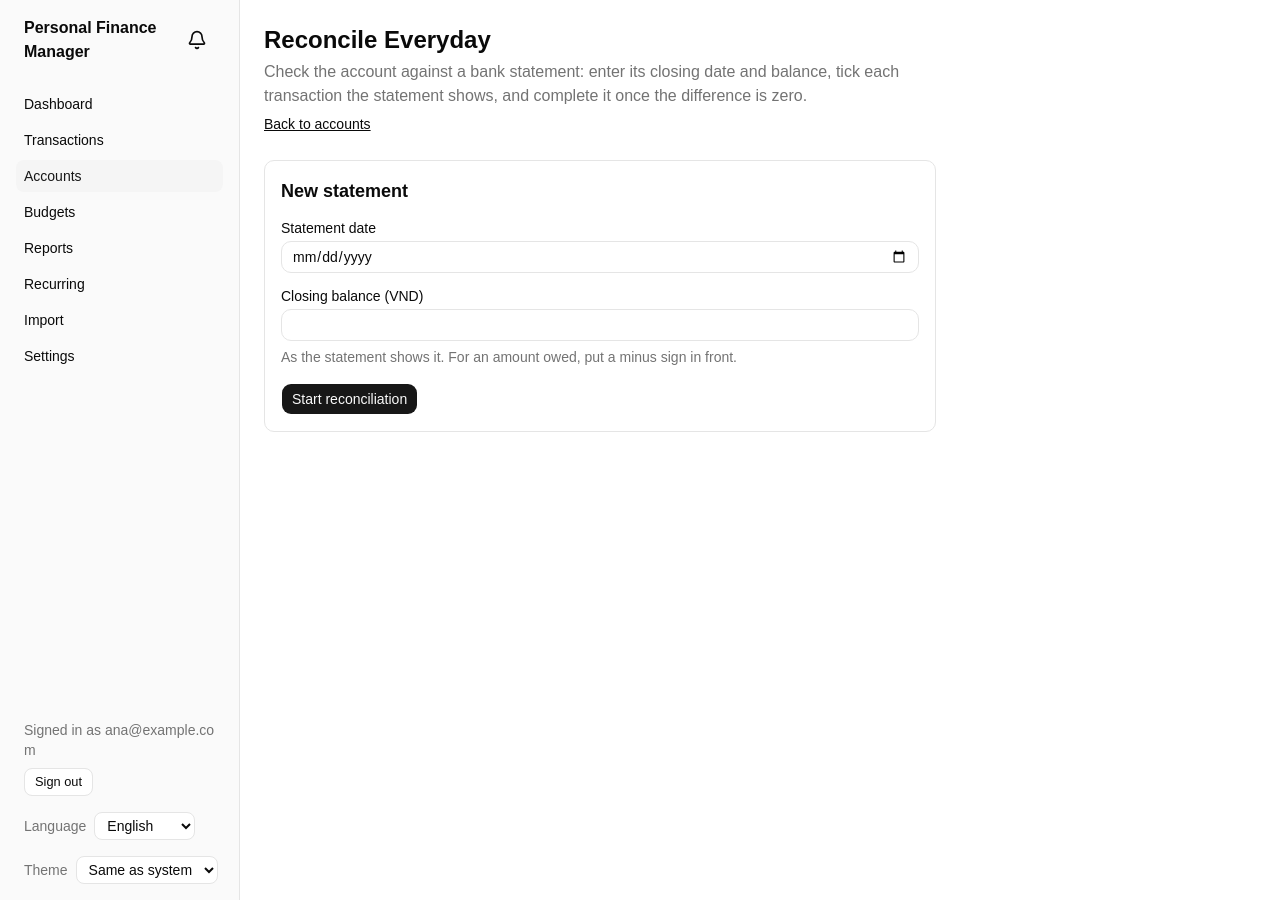
it: reconciling an account › reopens a completed reconciliation, which unlocks its transactions and keeps them ticked
Type "2026-10-31" into the date field labelled "Statement date" at (600, 257), box x1=281 y1=241 x2=919 y2=273
Type "5,500,000" into the field labelled "Closing balance (VND)" at (600, 325), box x1=281 y1=309 x2=919 y2=341
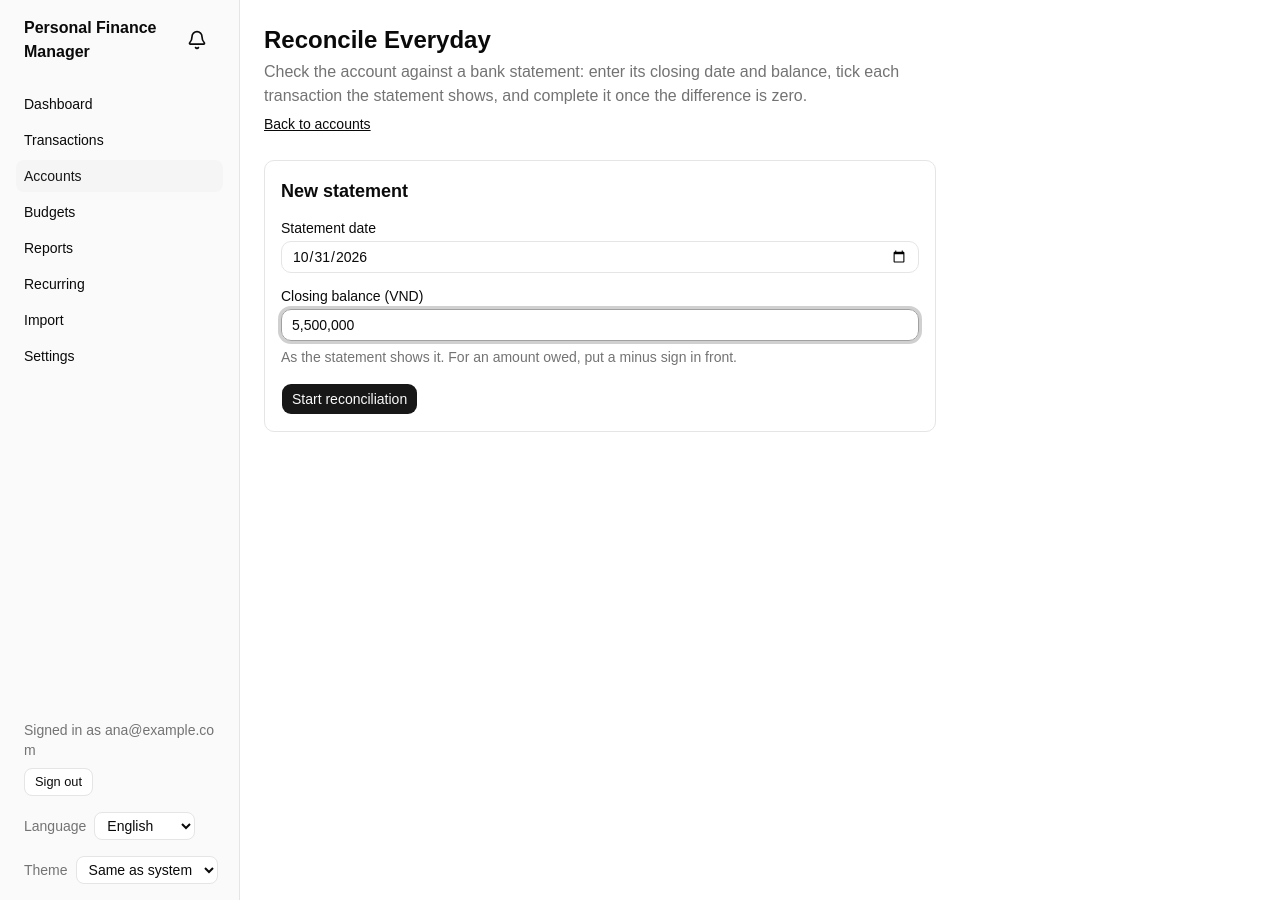
Click the button "Start reconciliation" at (350, 399), box x1=281 y1=383 x2=418 y2=415
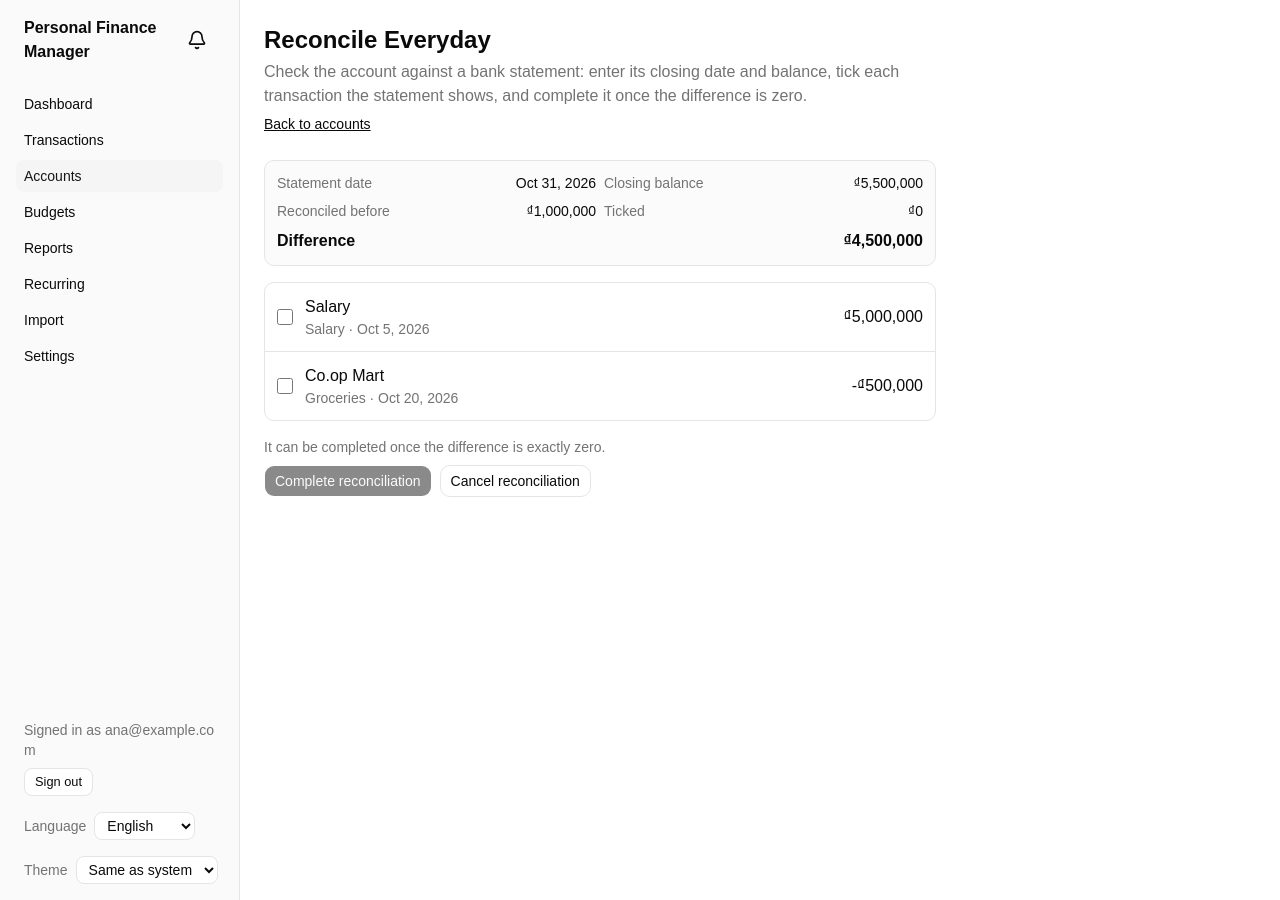
Click the checkbox named "Tick Salary" at (285, 317), box x1=277 y1=309 x2=293 y2=325
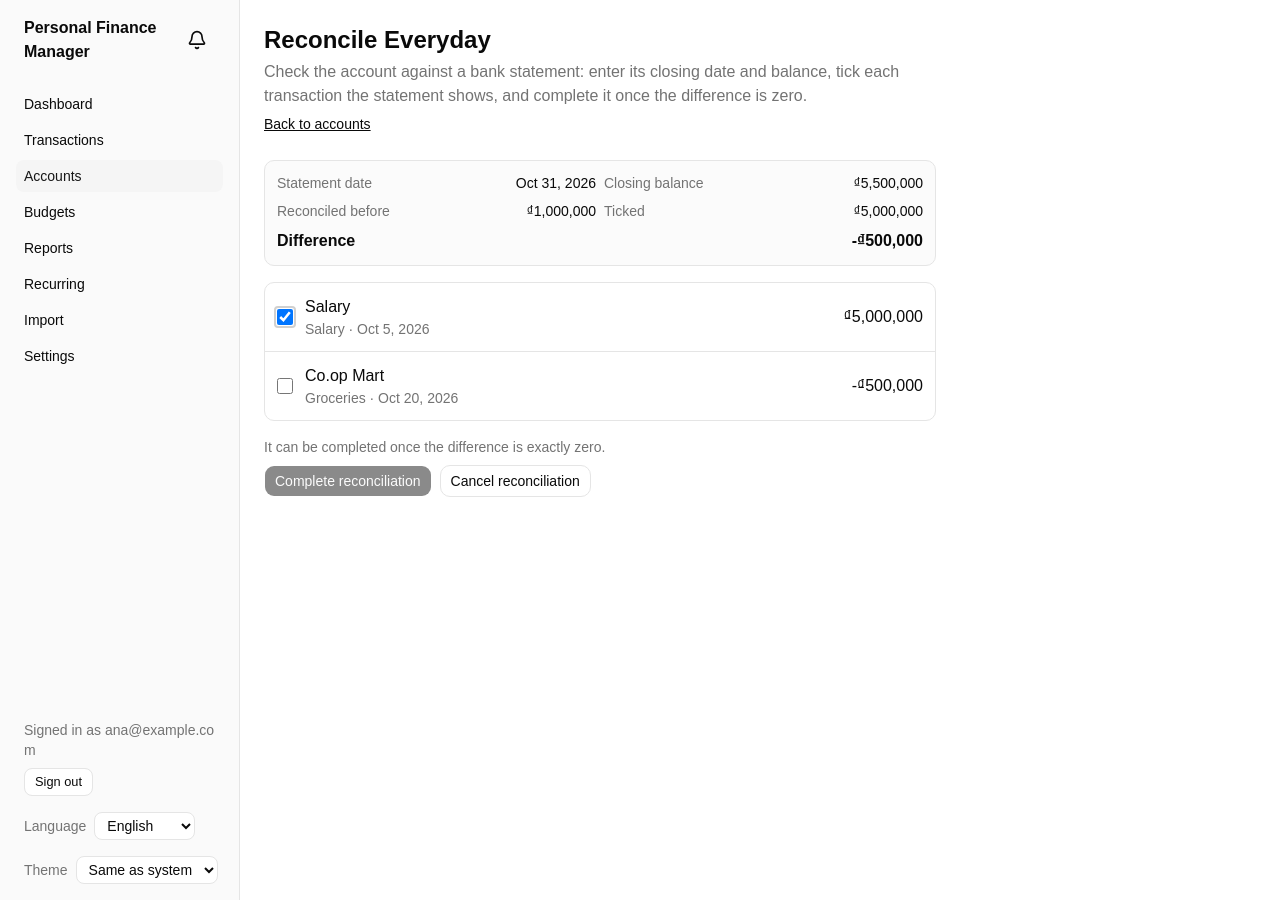
Click the checkbox named "Tick Co.op Mart" at (285, 386), box x1=277 y1=378 x2=293 y2=394
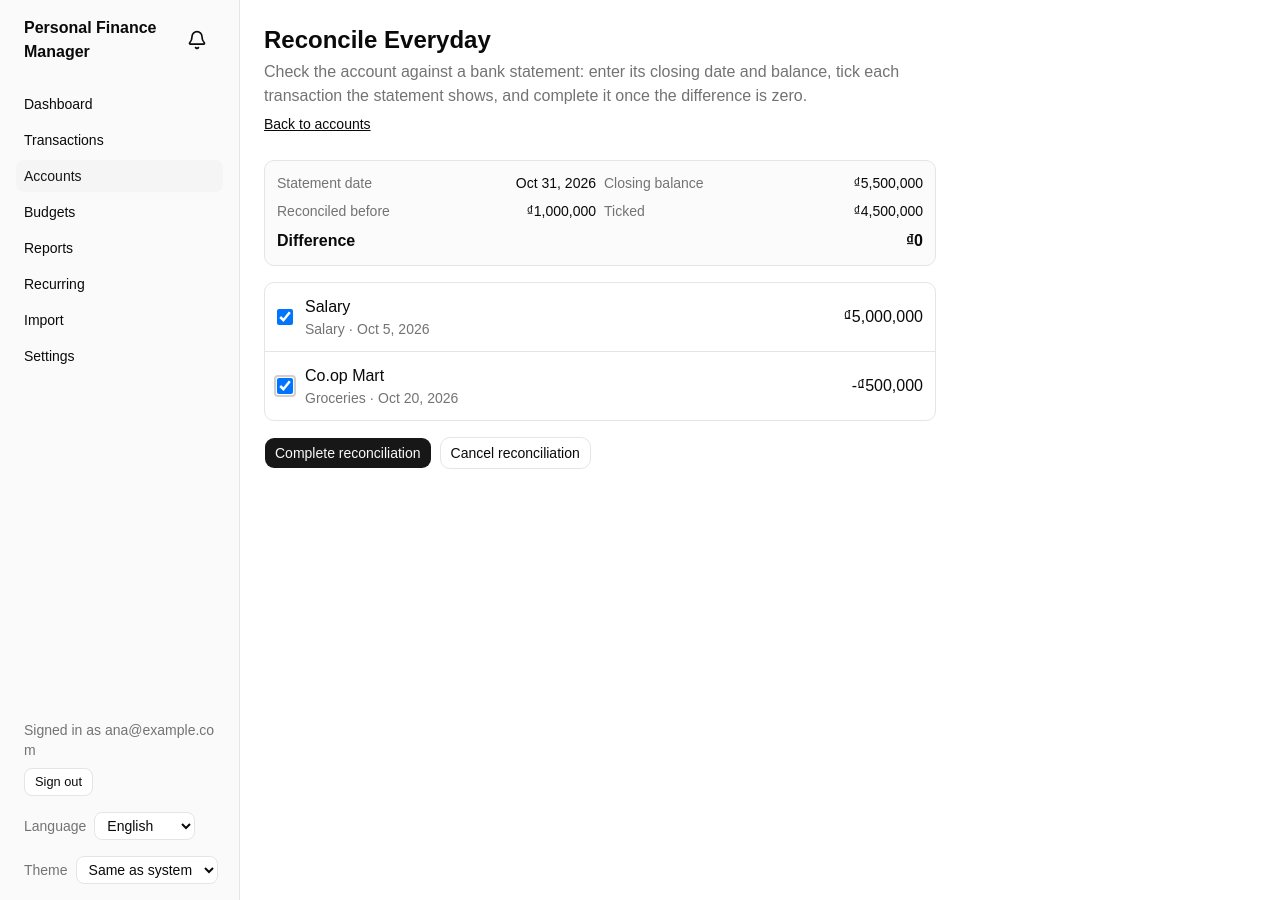
Result: the button "Complete reconciliation" is enabled
Click the button "Complete reconciliation" at (348, 453), box x1=264 y1=437 x2=432 y2=469
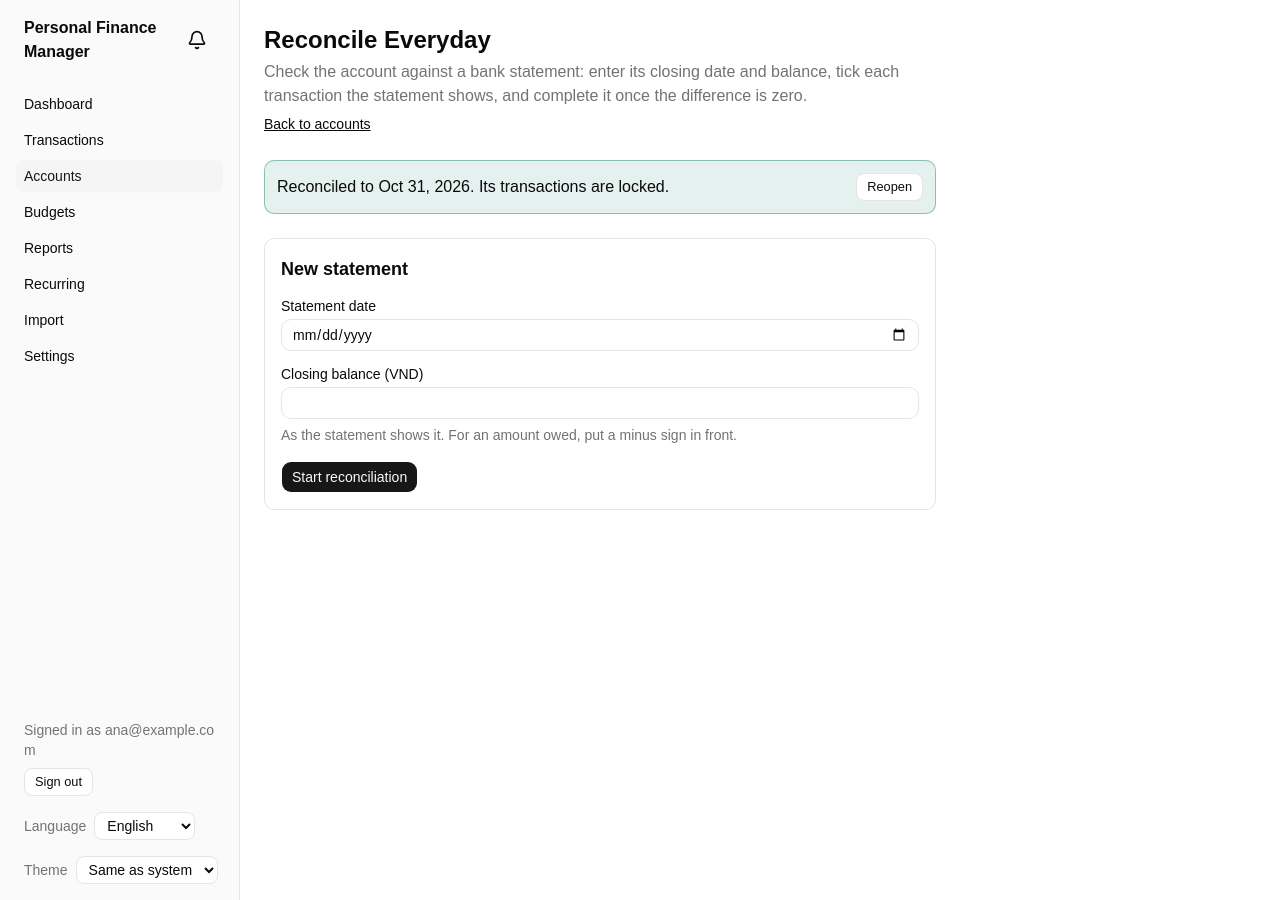
Click the button "Reopen" at (890, 187), box x1=856 y1=173 x2=923 y2=201
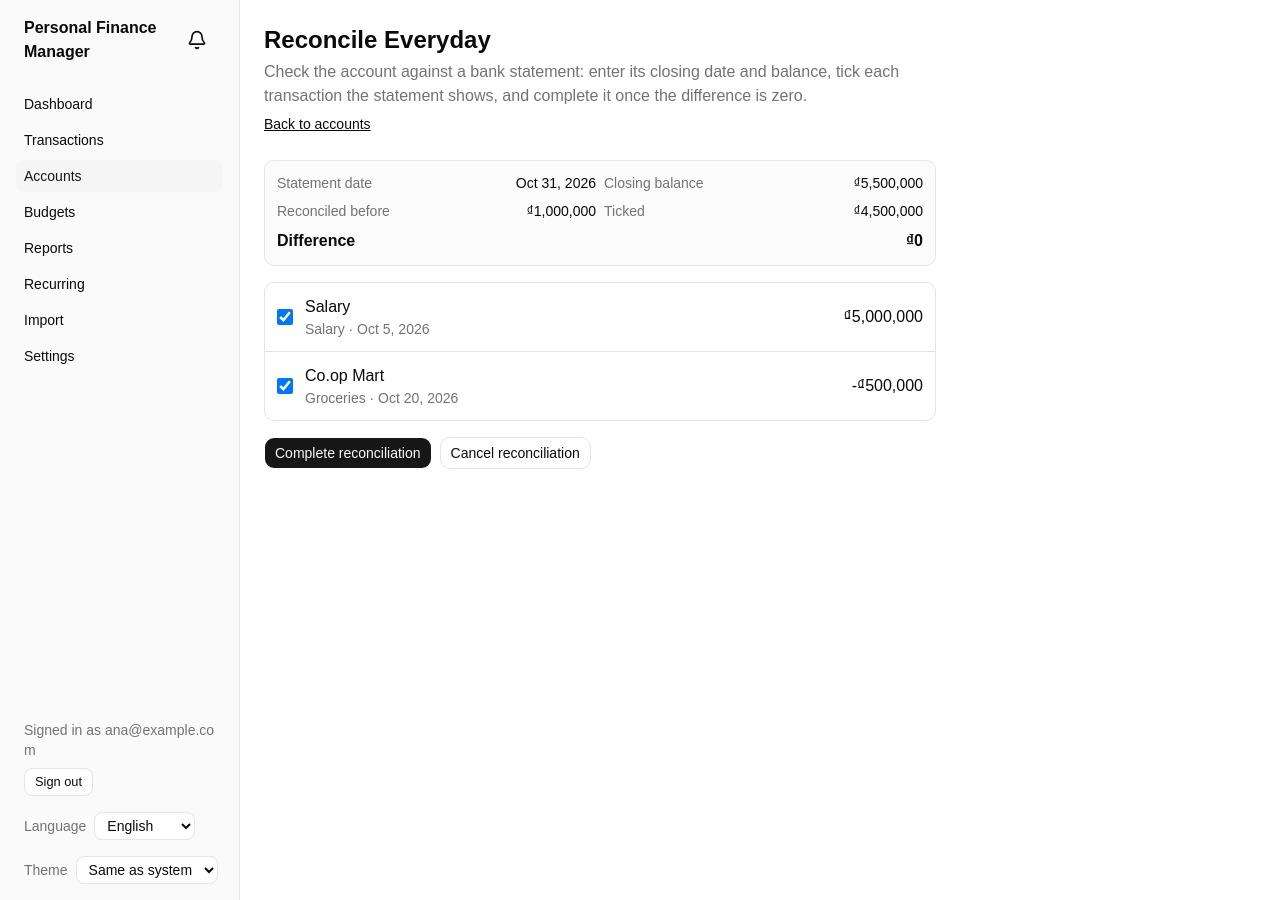
Result: the checkbox named "Tick Salary" is checked at x1=277 y1=309 x2=293 y2=325
Result: the checkbox named "Tick Co.op Mart" is checked at x1=277 y1=378 x2=293 y2=394
